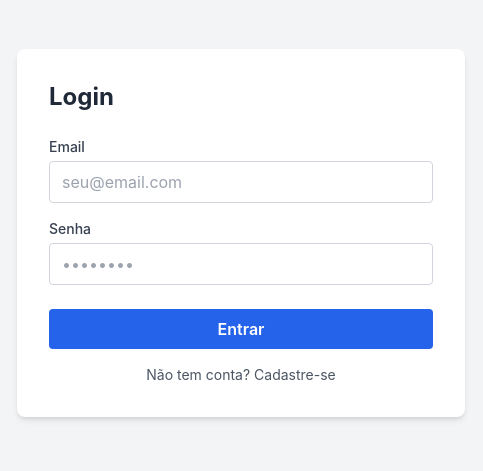
Login component › shows error when only password is filled
Type "secret123" into the password field labelled "Senha".
click(241, 264); type("secret123")  # box [49,243,433,285]
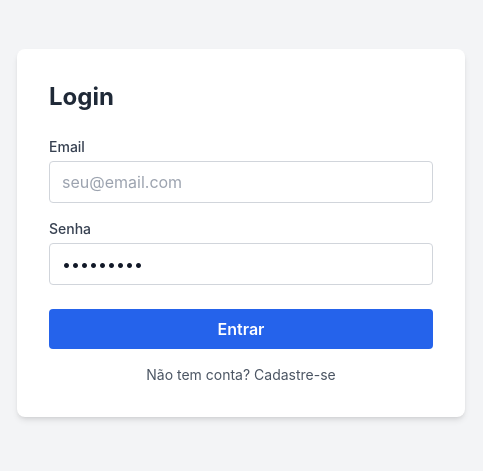
Click the button "Entrar".
click(241, 329)  # box [49,309,433,349]
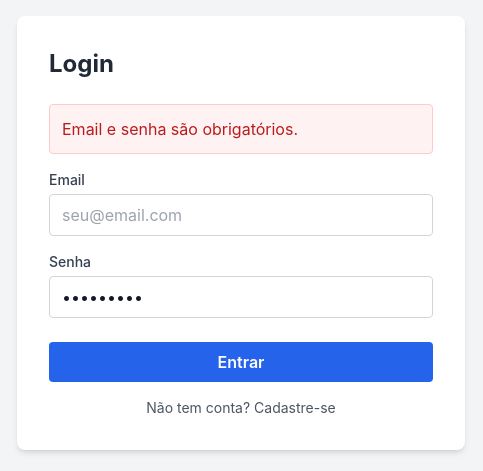
Result: the text "Email e senha são obrigatórios." is shown at [49,104,433,154]
